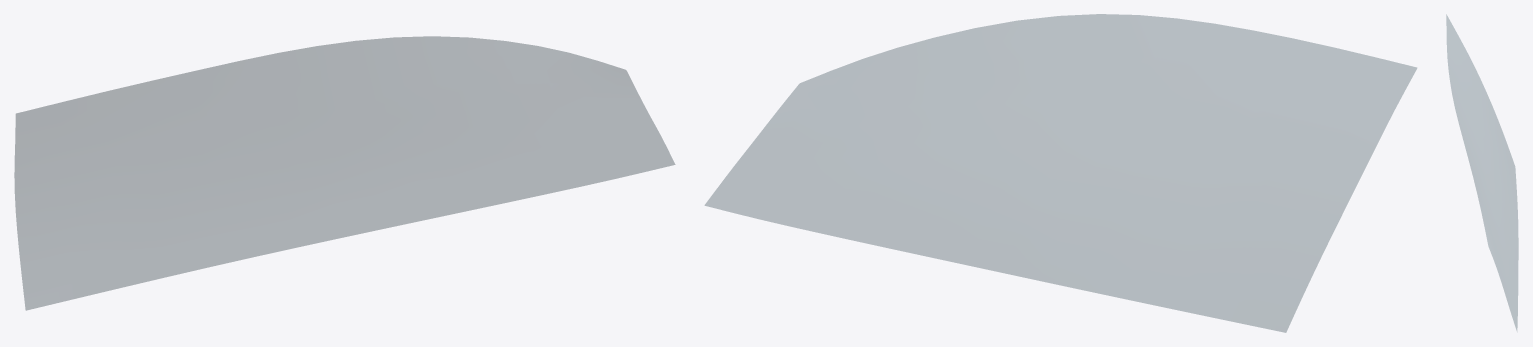
3 views of the same model, side by side, from view 1: azimuth 30°, elevation 25°; view 2: azimuth 150°, elevation 25°; view 3: azimuth 270°, elevation 25° (orthographic). The views are drawn at different scales.
Visible parts, largest first — view 1: SM_DodgeChargerCop_Door_FL_Glass_Int1; view 2: SM_DodgeChargerCop_Door_FL_Glass_Int1; view 3: SM_DodgeChargerCop_Door_FL_Glass_Int1.
Part boxes in pixels (left/top/right/bottom): SM_DodgeChargerCop_Door_FL_Glass_Int1: left=14, top=36, right=675, bottom=310; SM_DodgeChargerCop_Door_FL_Glass_Int1: left=705, top=14, right=1416, bottom=332; SM_DodgeChargerCop_Door_FL_Glass_Int1: left=1446, top=14, right=1518, bottom=330.
Bounding box in the file's own units: 0.934 × 0.3439 × 0.1596.
